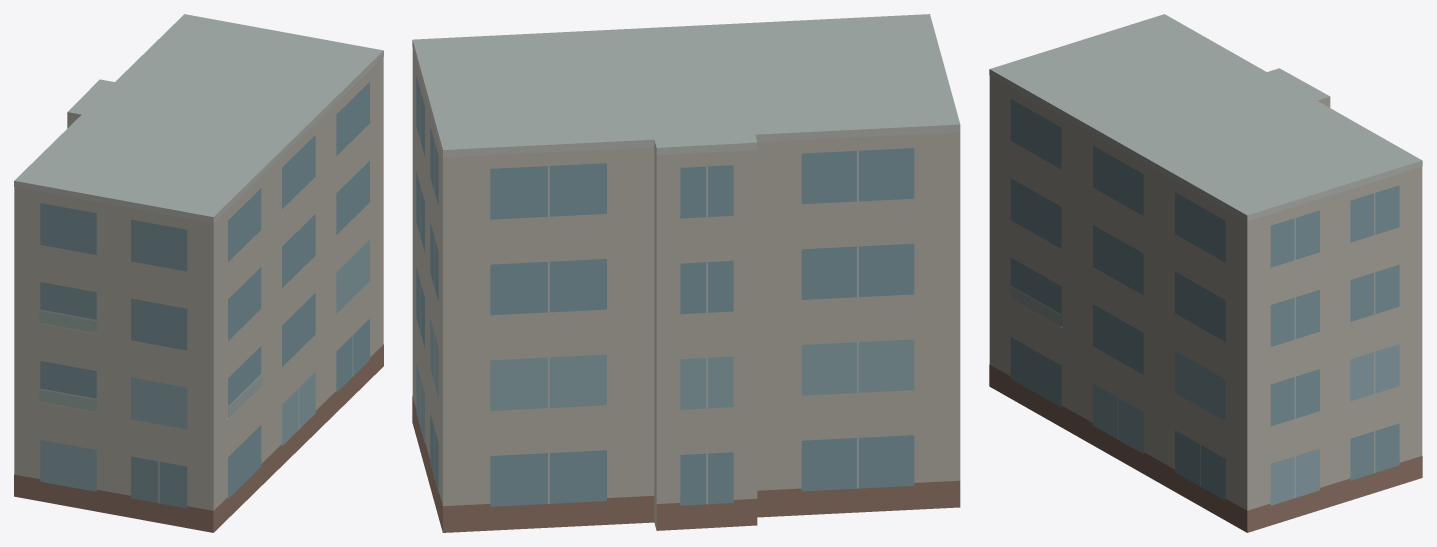
The model's file is survey-upis-32604834.glb.
3 views of the same model, side by side, from view 1: azimuth 30°, elevation 25°; view 2: azimuth 150°, elevation 25°; view 3: azimuth 270°, elevation 25° (orthographic). The views are drawn at different scales.
Parts seen in each view (by area): view 1: survey-upis-32604834.tmp; view 2: survey-upis-32604834.tmp; view 3: survey-upis-32604834.tmp.
Boxes of the visible parts, x1,y1,x2,y2 form: survey-upis-32604834.tmp: (14, 14, 383, 532); survey-upis-32604834.tmp: (412, 14, 960, 532); survey-upis-32604834.tmp: (989, 14, 1422, 532).
Size of the model in its own units: 17.03 by 12.5 by 15.46.
